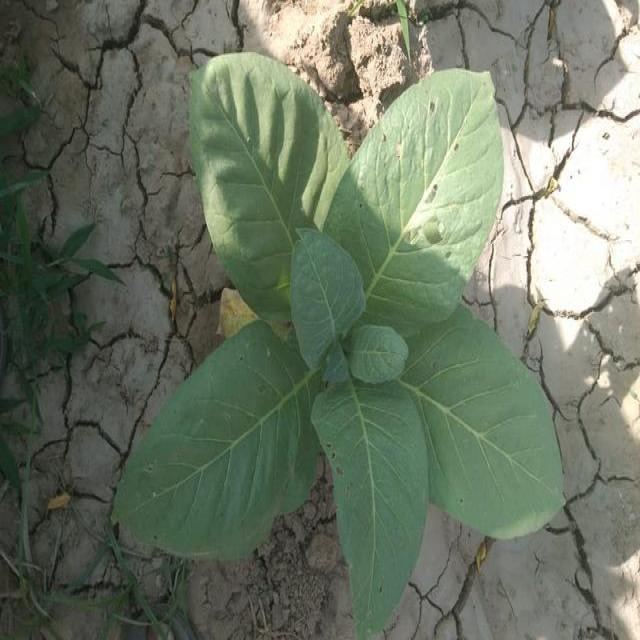crop: (112, 53, 570, 640)
